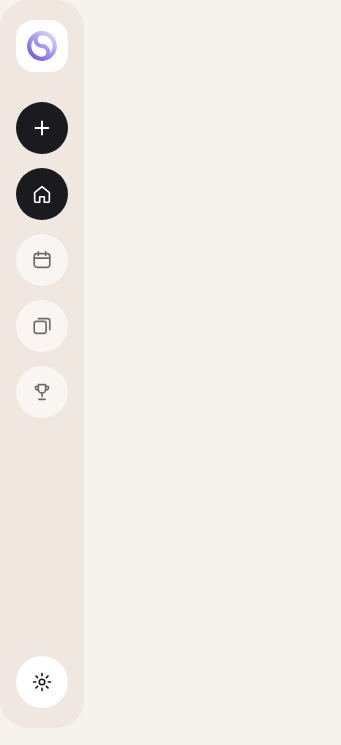
Test: AppRail › toggles aria-expanded, focuses the popover, closes on Escape and refocuses the trigger
The width and height of the screenshot is (341, 745).
Click the button named "Settings": (42, 682) [16, 656, 68, 708]
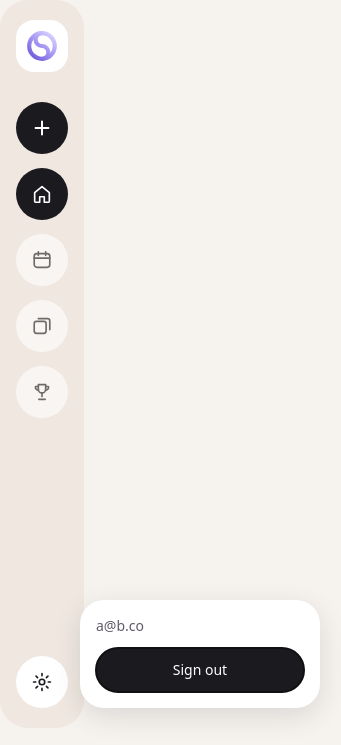
Press Escape
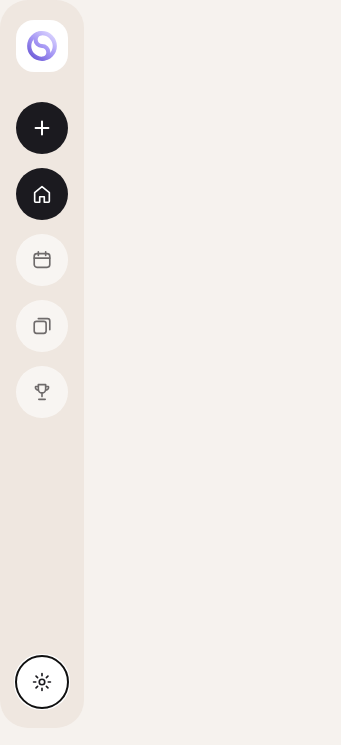
Expected: the element "Account" is gone
Expected: the button named "Settings" is collapsed, [16, 656, 68, 708]
